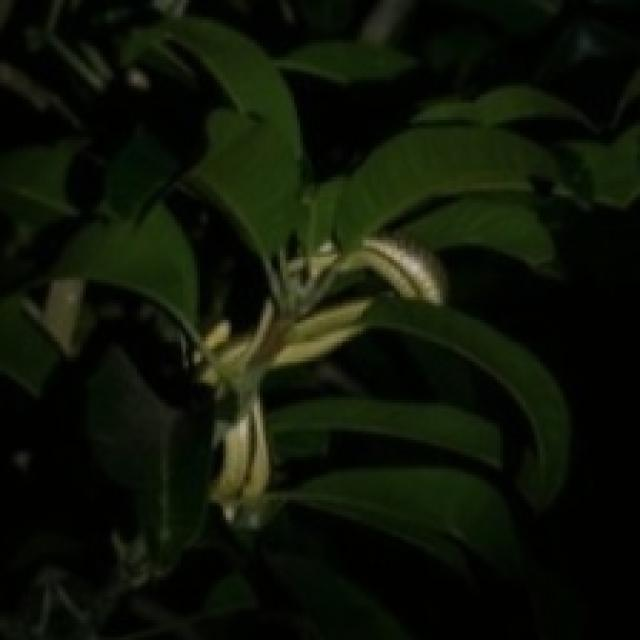paradise tree snake: (77, 223, 443, 523), (197, 237, 443, 526)
